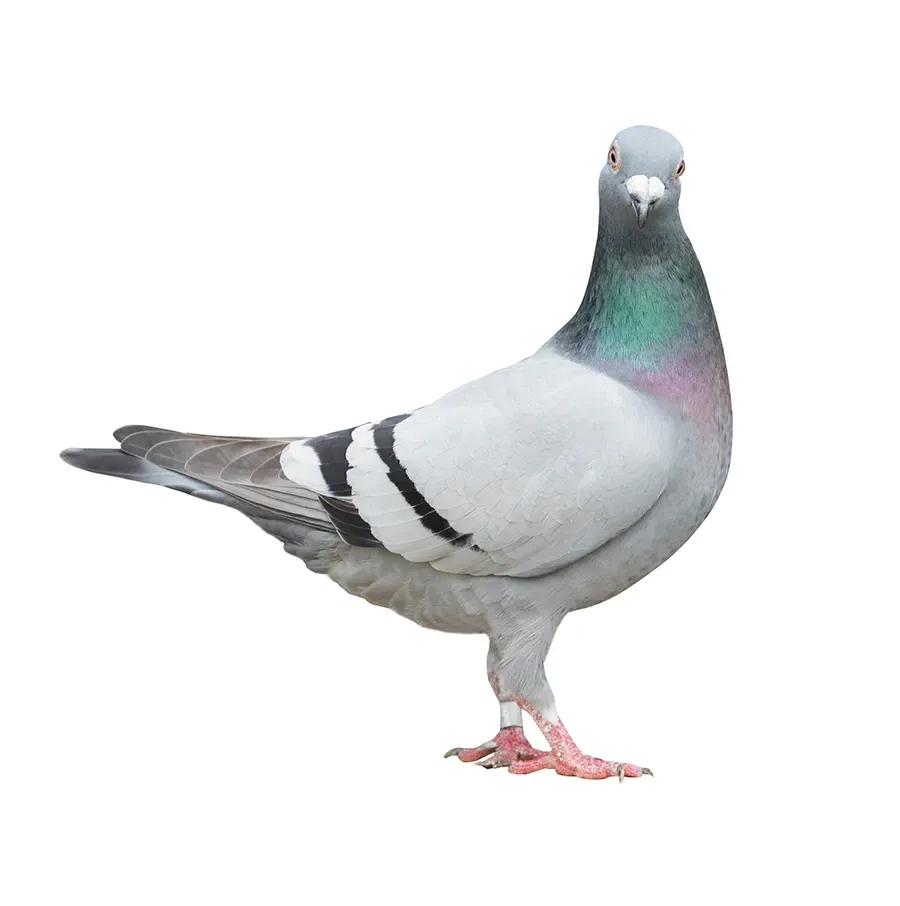Flying Rat: (62, 115, 734, 787)
